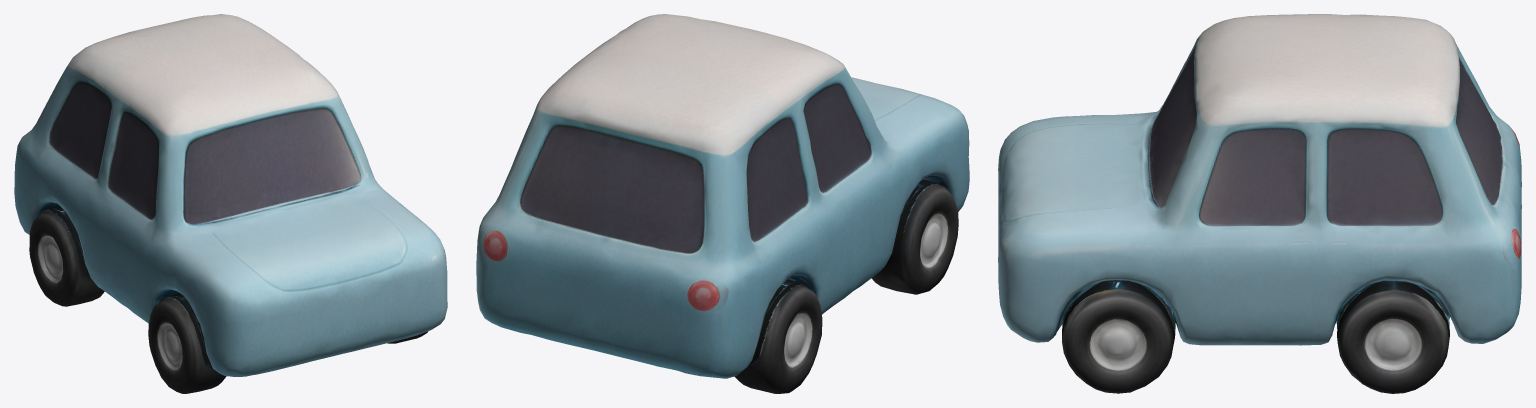
Rendered from P_TownCar_h380.fbx.
3 views of the same model, side by side, from view 1: azimuth 30°, elevation 25°; view 2: azimuth 150°, elevation 25°; view 3: azimuth 270°, elevation 25° (orthographic). The views are drawn at different scales.
Visible parts, largest first — view 1: texture_mapping; view 2: texture_mapping; view 3: texture_mapping.
Part boxes in pixels (x1,y1,x2,y2): texture_mapping: (14, 14, 447, 393); texture_mapping: (476, 14, 969, 393); texture_mapping: (998, 14, 1521, 393).
Bounding box in the file's own units: 0.6341 × 0.9936 × 0.5897.
1 material, 1 textured.
